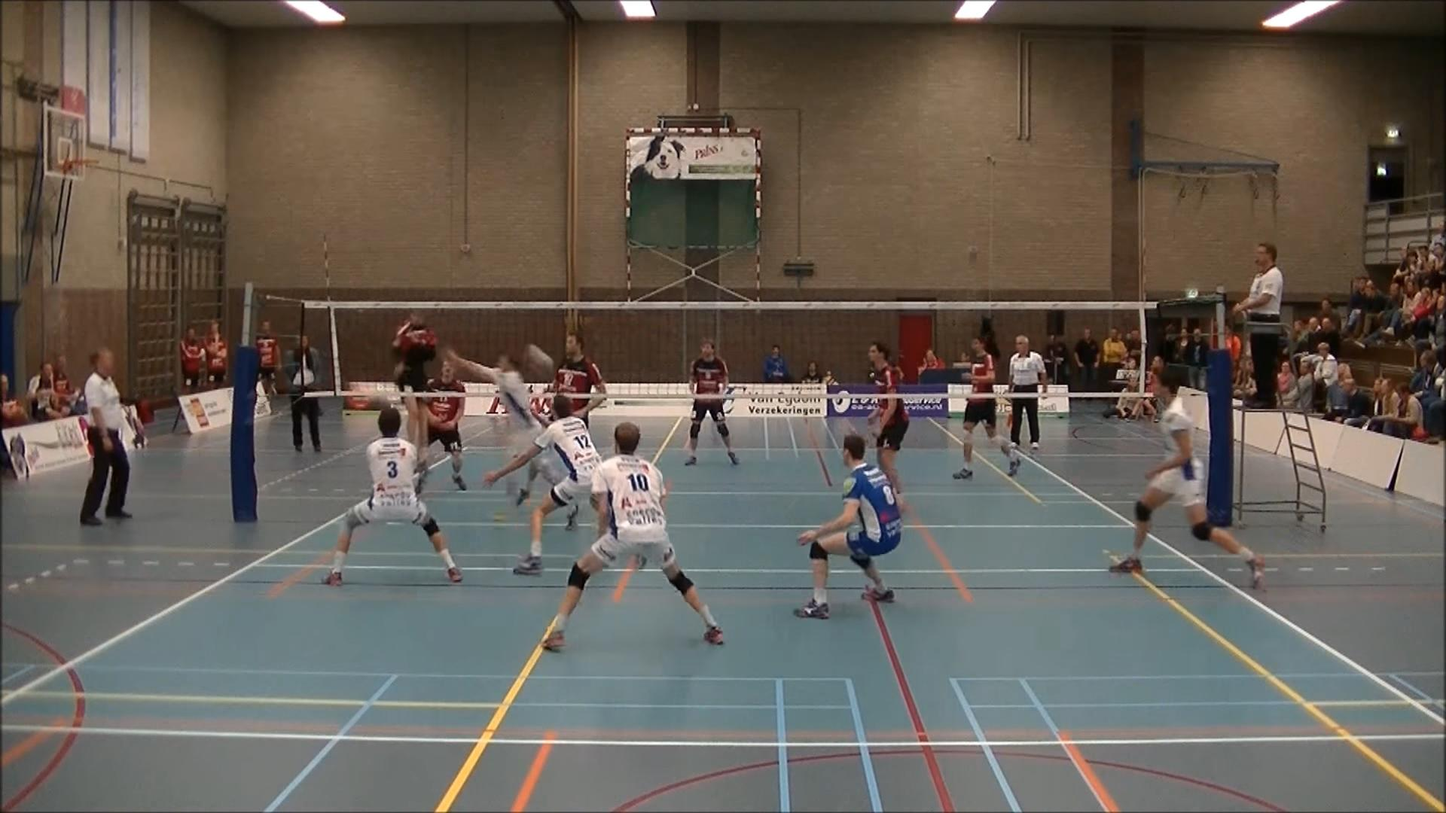Dig: (428, 331, 564, 510)
Player: (543, 422, 723, 650), (1110, 369, 1264, 589), (324, 406, 462, 585), (484, 395, 600, 574), (795, 434, 902, 619), (953, 338, 1020, 479), (392, 312, 436, 477), (685, 339, 738, 465), (868, 341, 908, 493), (550, 332, 606, 424), (427, 361, 465, 489), (552, 332, 606, 422)
